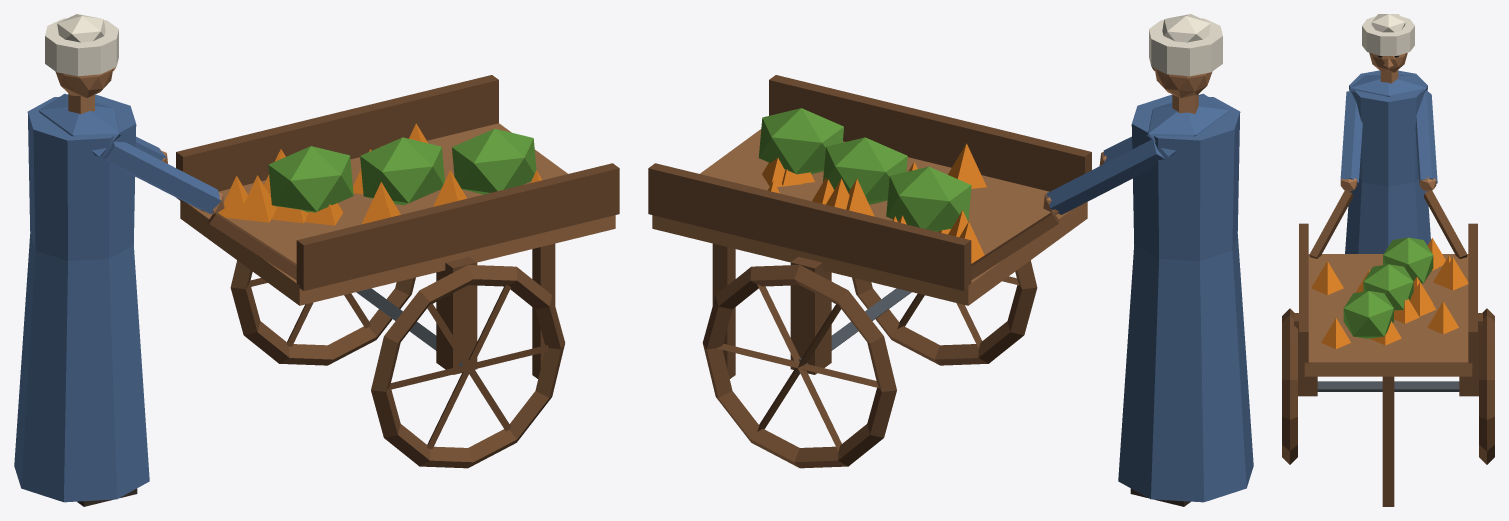
Rendered from handlare_karra.glb.
3 renders of one model, left to right at view 1: azimuth 30°, elevation 25°; view 2: azimuth 150°, elevation 25°; view 3: azimuth 270°, elevation 25°, orthographic. The views are drawn at different scales.
Parts seen in each view (by area): view 1: handlare_karra; view 2: handlare_karra; view 3: handlare_karra.
Part boxes in pixels (x1=…): handlare_karra: x1=14, y1=14, x2=619, y2=506; handlare_karra: x1=648, y1=14, x2=1253, y2=506; handlare_karra: x1=1282, y1=14, x2=1494, y2=506.
Bounding box in the file's own units: 2.2 × 1.88 × 1.08.
